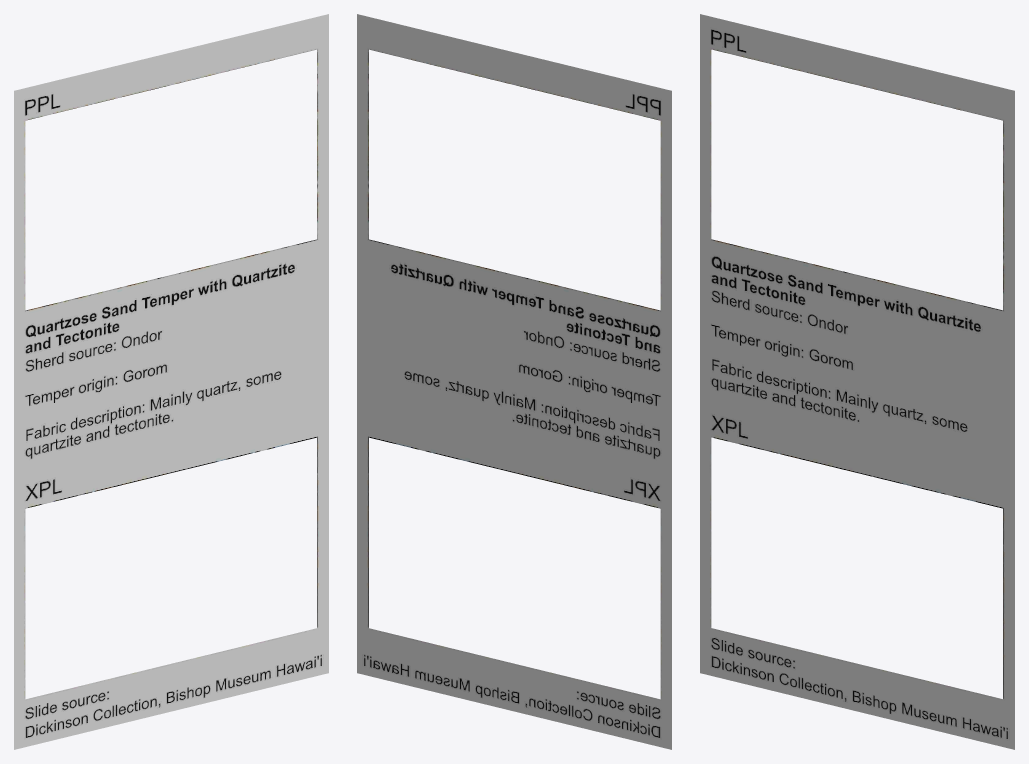
Rendered from wd_18_10_frame.glb.
3 views of the same model, side by side, from view 1: azimuth 30°, elevation 25°; view 2: azimuth 150°, elevation 25°; view 3: azimuth 330°, elevation 25° (orthographic).
Parts seen in each view (by area): view 1: WD_18_10.003; view 2: WD_18_10.003; view 3: WD_18_10.003.
Boxes of the visible parts, <box> form: WD_18_10.003: <box>14,14,328,749</box>; WD_18_10.003: <box>357,14,671,749</box>; WD_18_10.003: <box>700,14,1014,749</box>.
Bounding box in the file's own units: 0.5 × 1 × 4.37e-08.
1 material, 1 textured.
